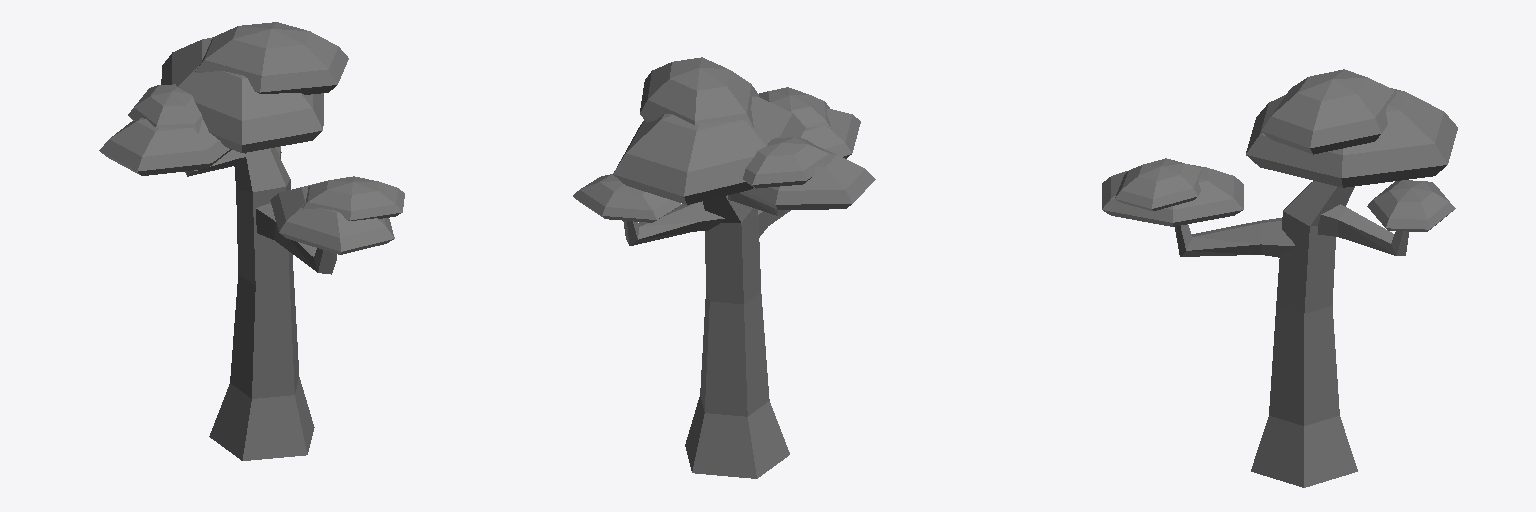
File: Tree.obj
3 views of the same model, side by side, from view 1: azimuth 30°, elevation 25°; view 2: azimuth 150°, elevation 25°; view 3: azimuth 270°, elevation 25° (orthographic).
Visible parts, largest first — view 1: TreeV1 PROPS; view 2: TreeV1 PROPS; view 3: TreeV1 PROPS.
Boxes of the visible parts, x1,y1,x2,y2 form: TreeV1 PROPS: [99, 22, 404, 460]; TreeV1 PROPS: [573, 57, 875, 478]; TreeV1 PROPS: [1102, 69, 1457, 487].
Size of the model in its own units: 6.58 by 10.27 by 8.41.